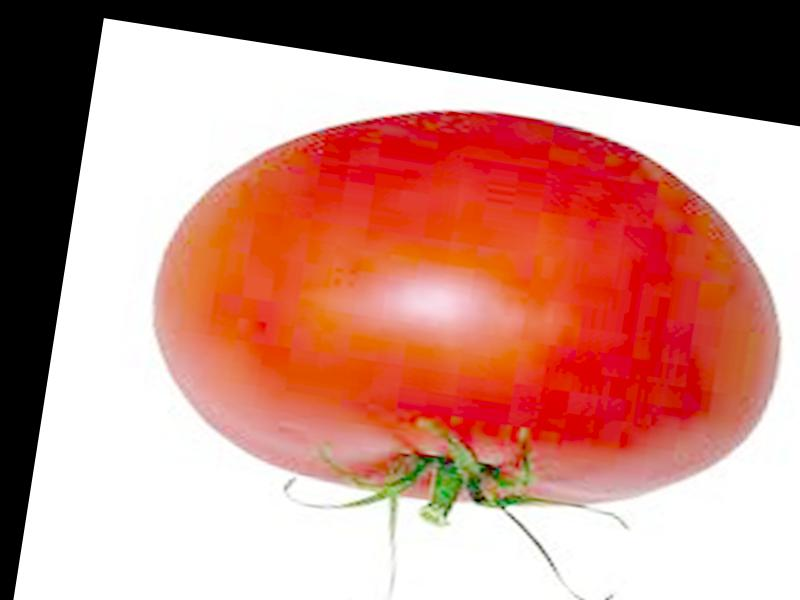Tomato: (135, 67, 800, 549)
